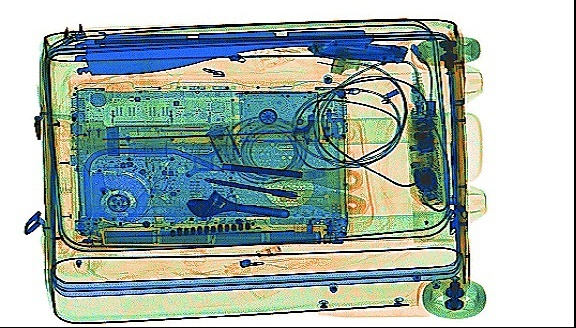knife: (305, 33, 410, 65)
